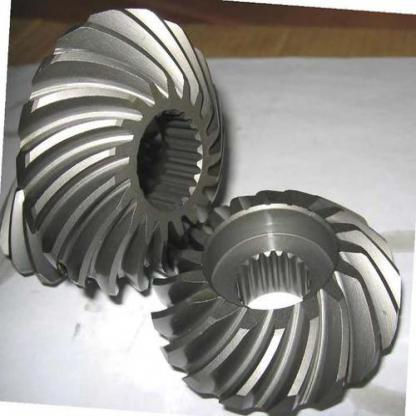FOD: (0, 3, 225, 304), (147, 187, 405, 415)
